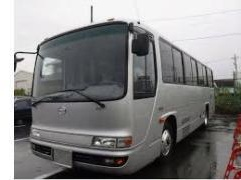bus: (28, 20, 217, 172)
